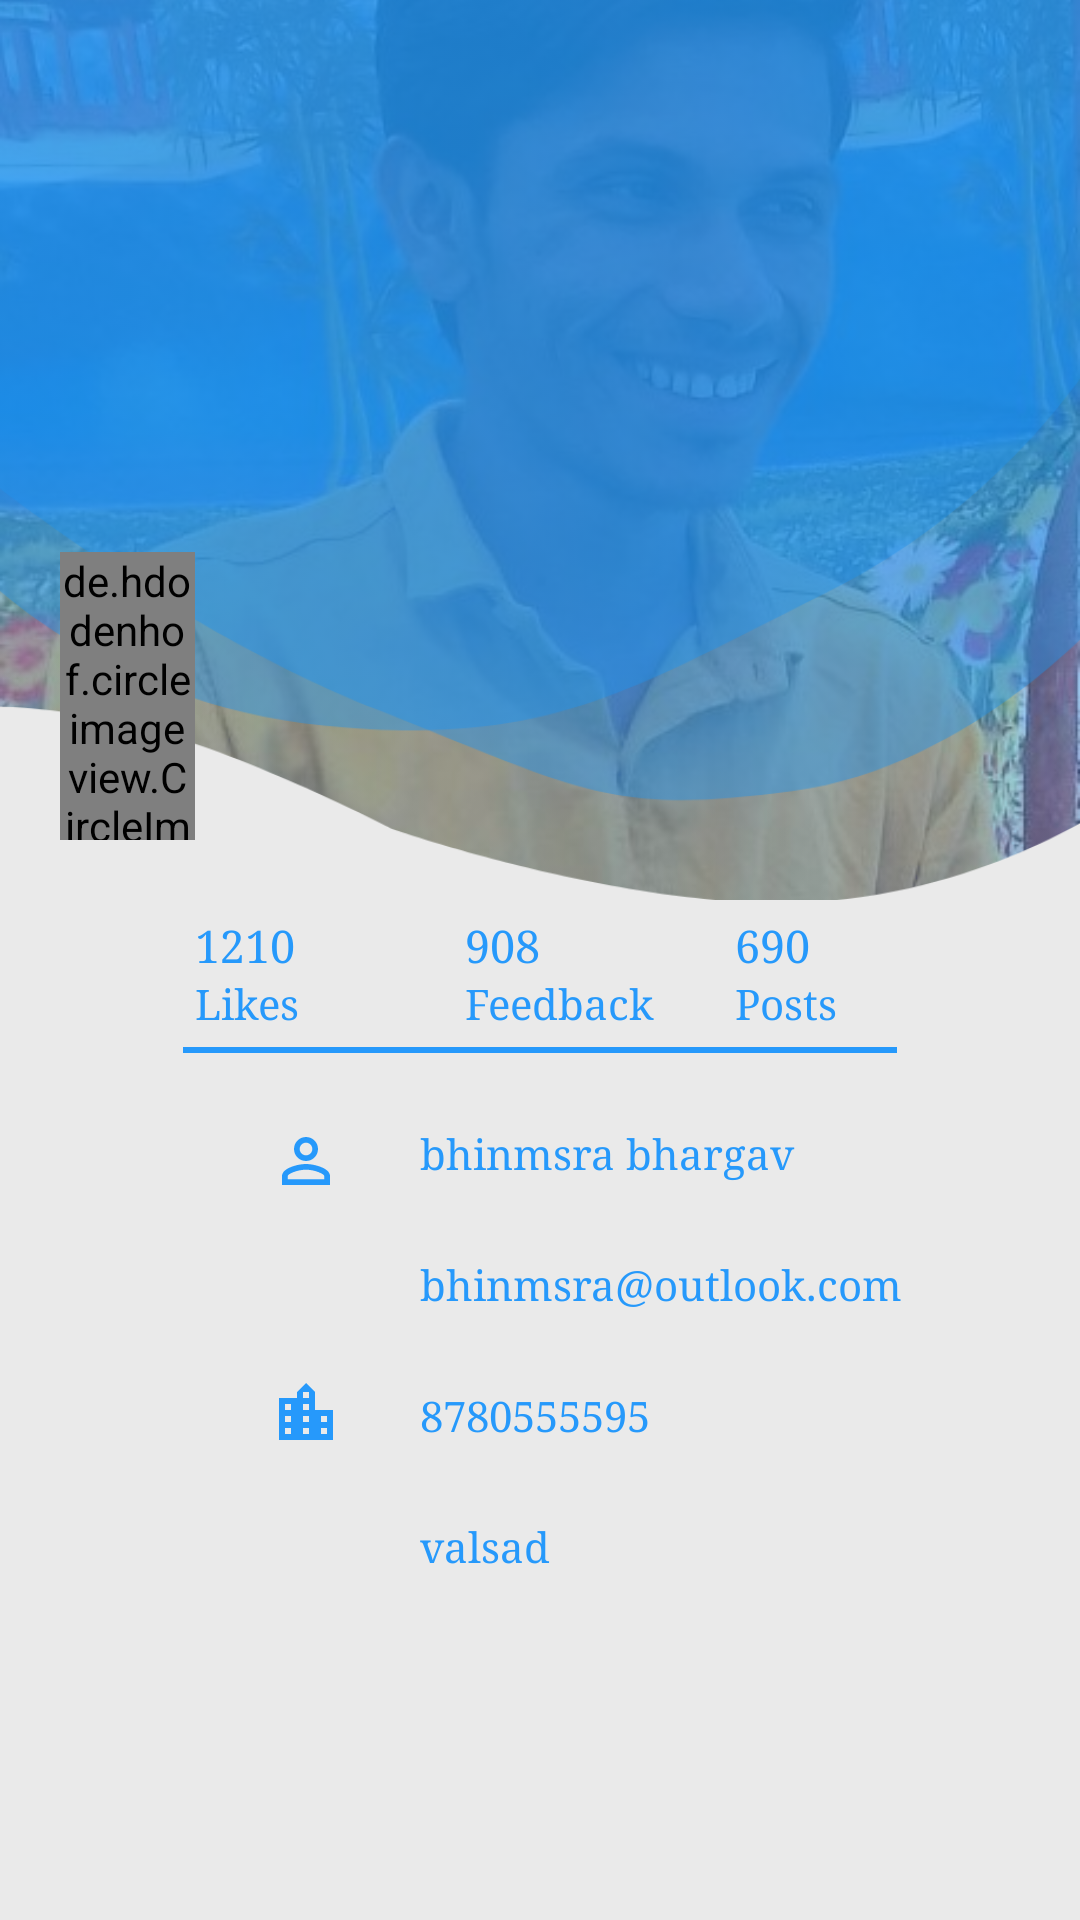

Screen size 1080×1920. Icon name, then its box in pixels as (x1, y1, x2, y2):
location city: (279, 1383, 333, 1440)
perm identity: (282, 1137, 330, 1185)
